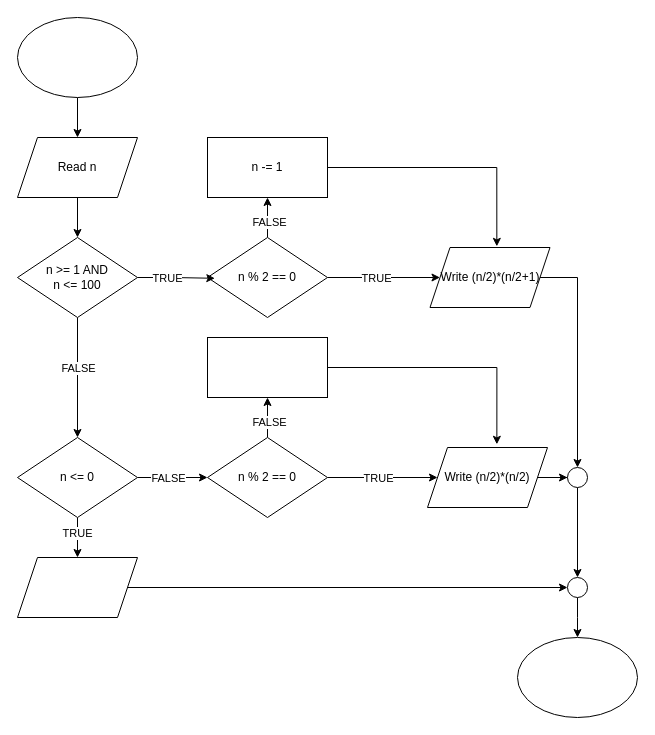
Image size: 655x735. Some labels were removed from this diagram. The centre of each missing label's shape, as x and y in pixels:
END: (577,677)
n += 1: (267,367)
START: (77,57)
Write "NOOOO": (77,587)
